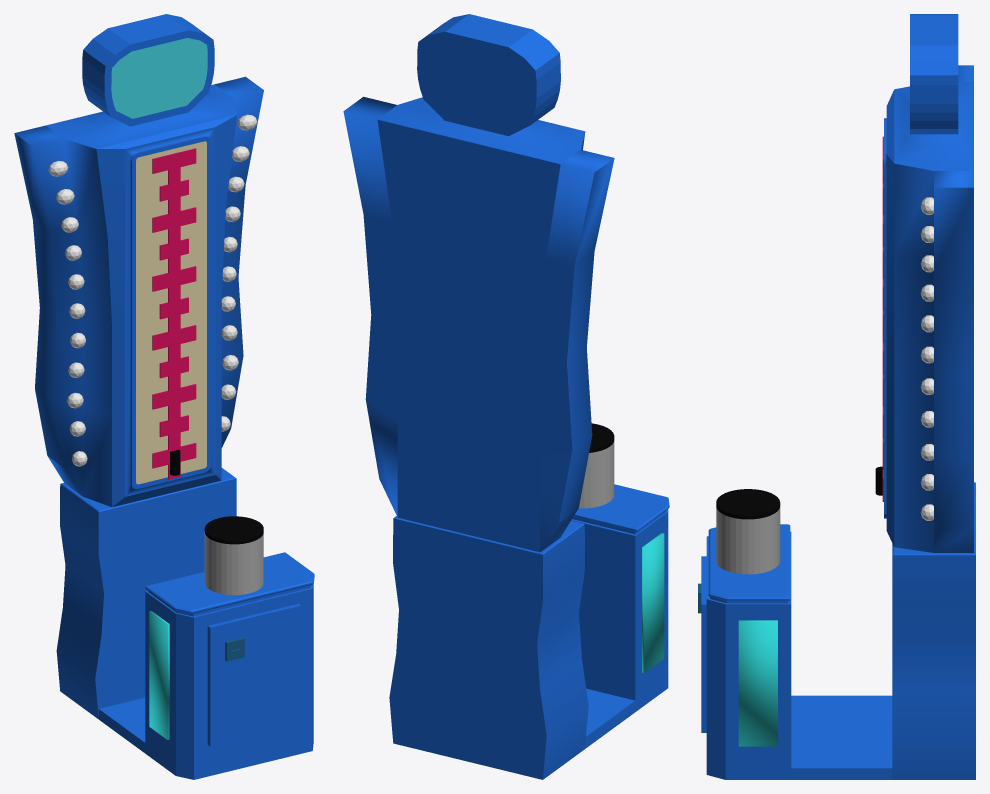
The model's file is f_hammer_machine.fbx.
3 views of the same model, side by side, from view 1: azimuth 30°, elevation 25°; view 2: azimuth 150°, elevation 25°; view 3: azimuth 270°, elevation 25° (orthographic). The views are drawn at different scales.
Parts seen in each view (by area): view 1: Plane; view 2: Plane; view 3: Plane.
Part boxes in pixels (x1=…): Plane: x1=14, y1=14, x2=314, y2=779; Plane: x1=343, y1=14, x2=669, y2=779; Plane: x1=698, y1=14, x2=975, y2=779.
Bounding box in the file's own units: 336 × 914 × 322.
